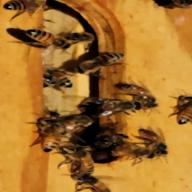Bee: (67, 46, 136, 72), (56, 145, 100, 180), (26, 27, 72, 47), (0, 0, 43, 21), (159, 95, 192, 122), (46, 121, 64, 165)
